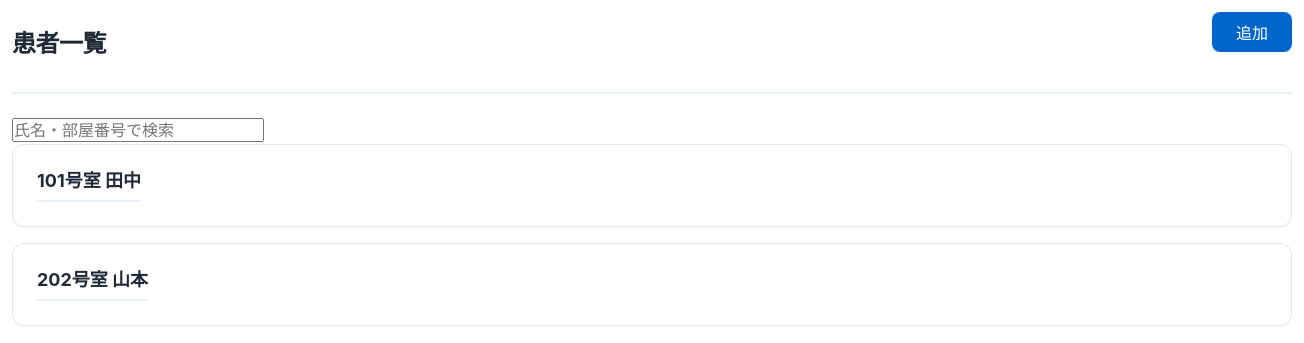
Test: PatientList › 検索結果が0件ならメッセージを表示する
Type "999号室 岡﨑" into the field named "患者検索" at (138, 130), box [12,118,264,142]
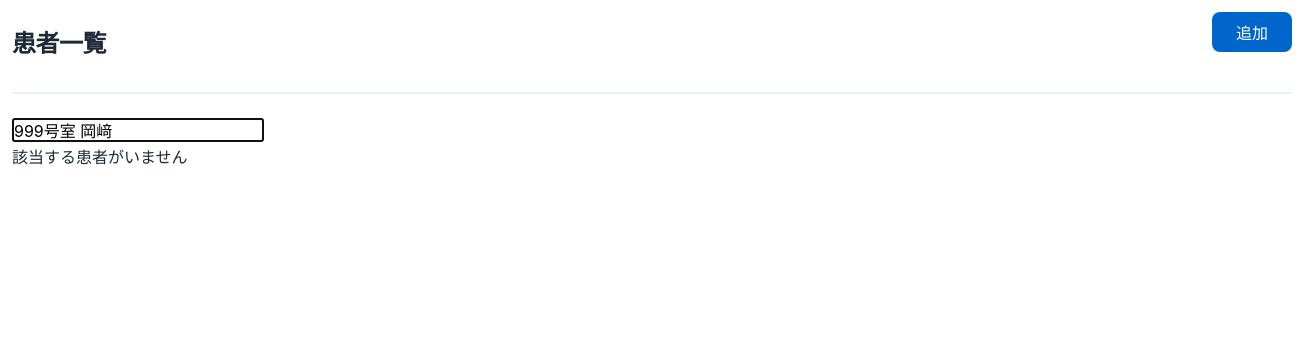
expect the text "該当する患者がいません" is shown: met, box [12,147,188,167]
